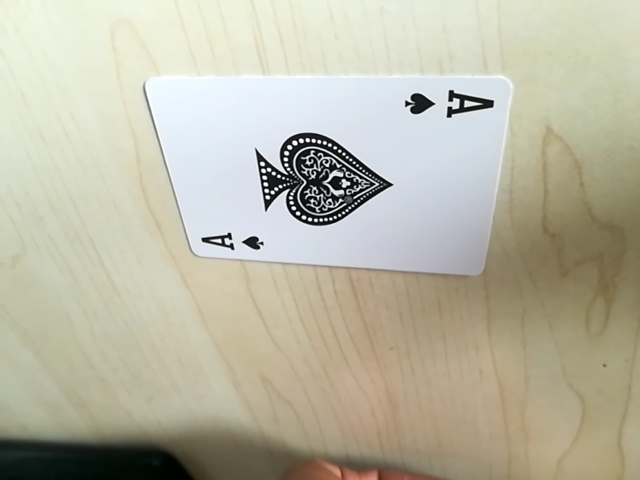ht a: (399, 84, 496, 126), (194, 229, 267, 258)
